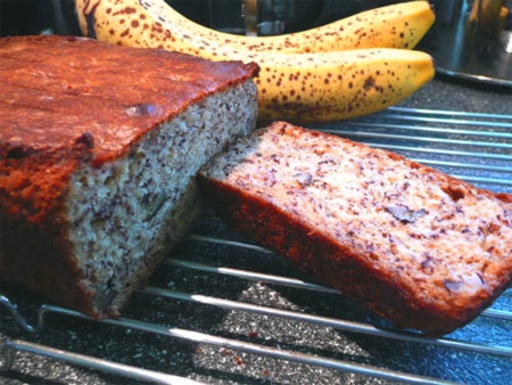background: (0, 0, 410, 202)
